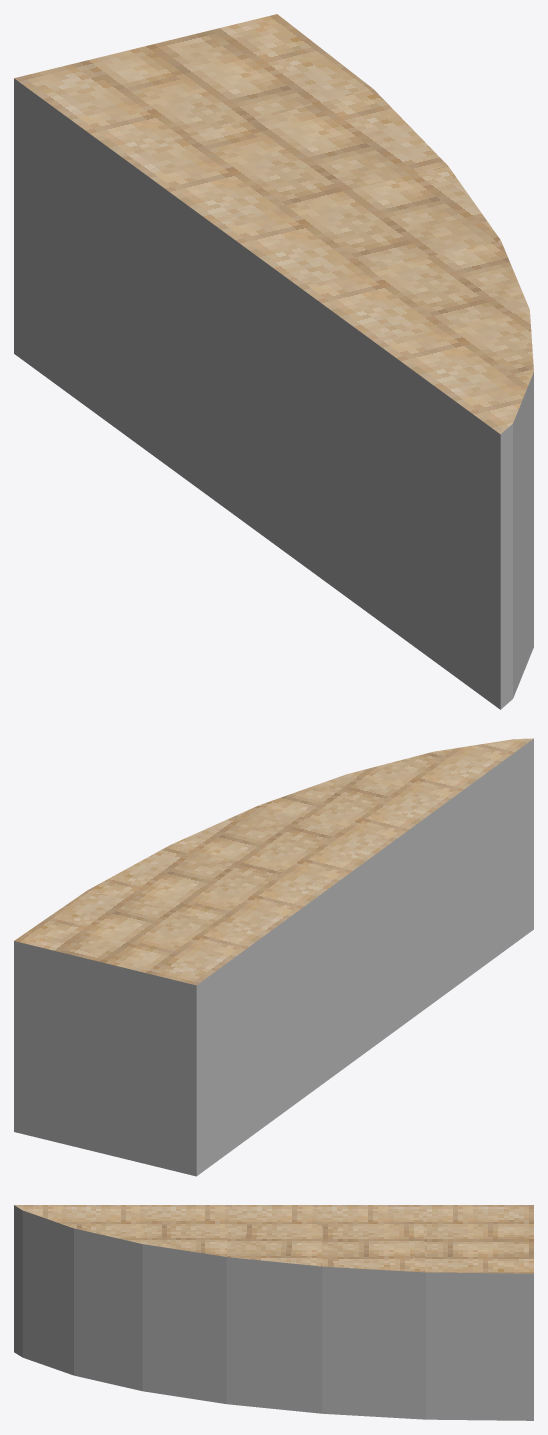
Rendered from sandstone_bridge_front_right.obj.
3 renders of one model, top to bottom at view 1: azimuth 30°, elevation 25°; view 2: azimuth 150°, elevation 25°; view 3: azimuth 270°, elevation 25°, orthographic. The views are drawn at different scales.
Visible parts, largest first — view 1: side_front_right; view 2: side_front_right; view 3: side_front_right.
Part boxes in pixels (x1=…): side_front_right: x1=14, y1=14, x2=533, y2=709; side_front_right: x1=14, y1=738, x2=533, y2=1176; side_front_right: x1=14, y1=1205, x2=533, y2=1420.
Bounding box in the file's own units: 1 × 1 × 3.2.
